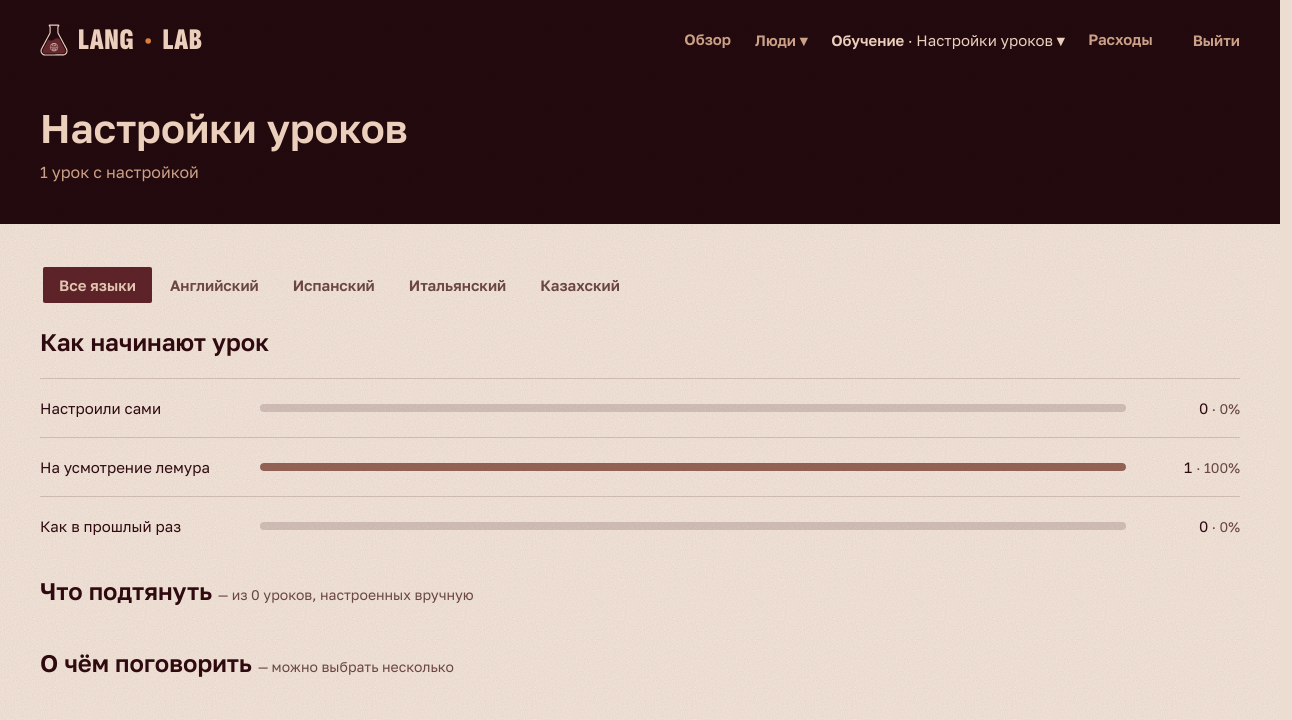
Test: languages › the set-ups filter by language
This screenshot has width=1292, height=720.
Expected: the text "1 урок с настройкой" is shown, x1=40 y1=162 x2=199 y2=182
Click the tab "Казахский" at (580, 285), box x1=524 y1=267 x2=636 y2=303
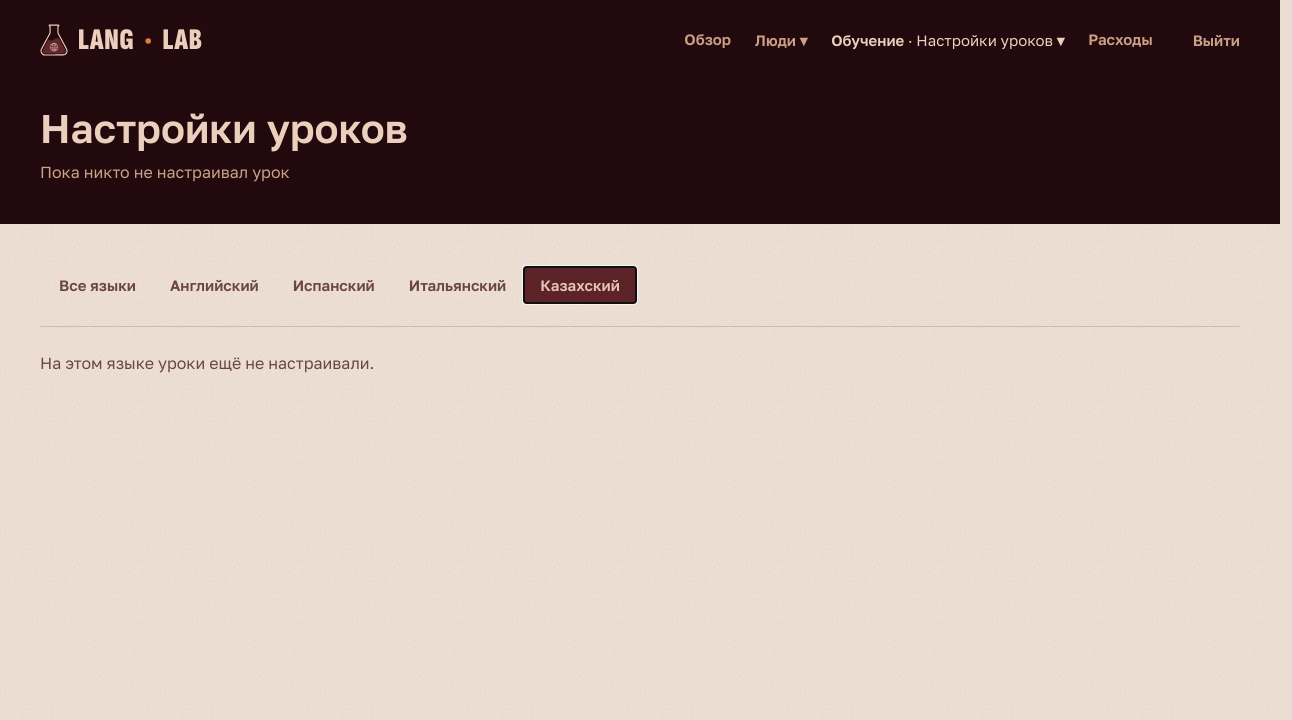
Expected: the text "На этом языке уроки ещё не настраивали." is shown, x1=40 y1=326 x2=1240 y2=399
